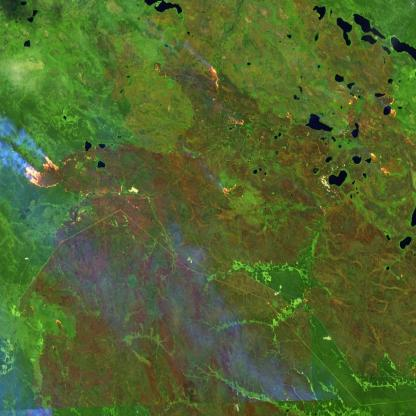fire: (21, 152, 63, 192), (366, 146, 397, 181), (206, 61, 228, 99), (219, 172, 243, 202), (386, 89, 400, 128), (345, 87, 365, 113)
